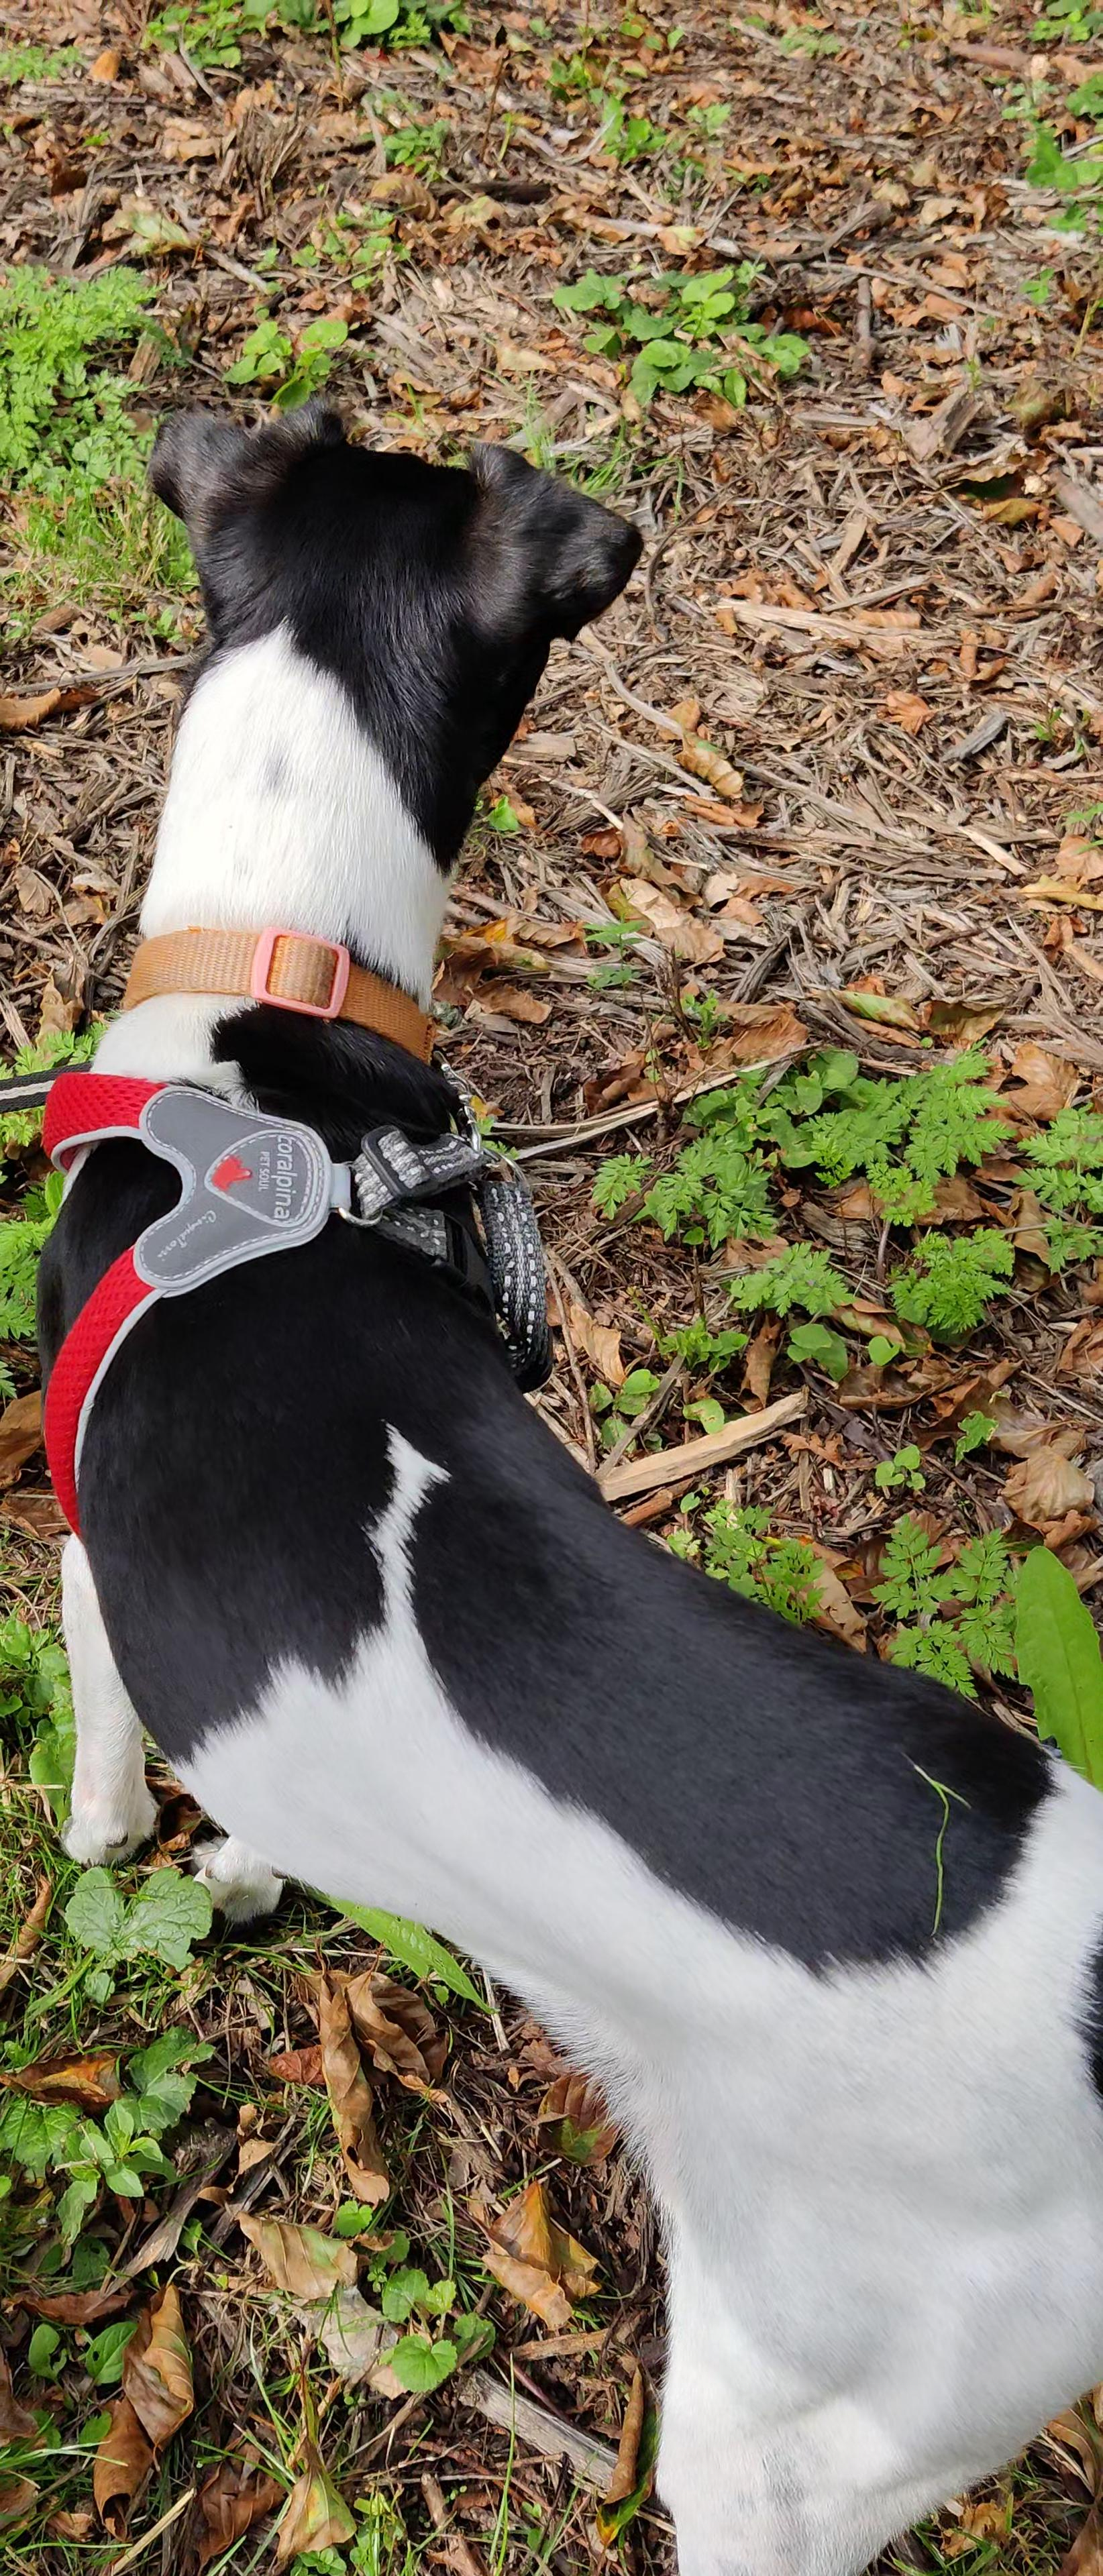Dog: (33, 389, 1103, 2576)
